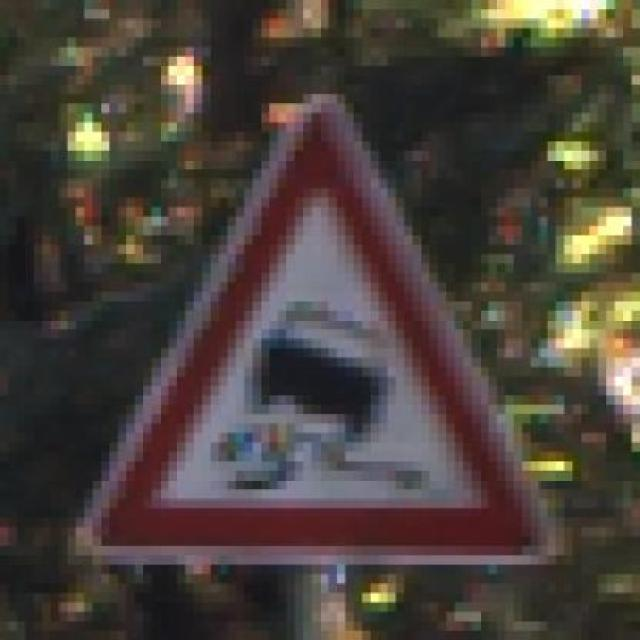Slippery Road Ahead: (50, 75, 573, 574)
